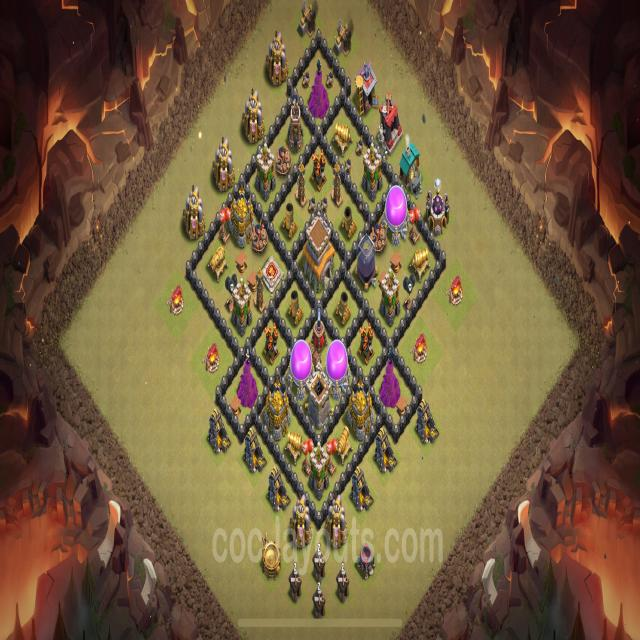air_defense: (357, 322, 377, 366), (310, 146, 328, 194), (260, 320, 280, 363)
air_sweeper: (312, 308, 326, 354)
archer_tower: (380, 270, 401, 329), (362, 143, 383, 201), (255, 142, 275, 196), (233, 280, 252, 334), (310, 441, 328, 498)
army_camp: (445, 272, 465, 310), (202, 338, 222, 375), (166, 282, 186, 318), (412, 329, 428, 368)
barracks: (352, 54, 379, 115)
builders_hut: (334, 563, 350, 605), (287, 566, 303, 606), (312, 587, 326, 620), (312, 548, 325, 580)
cannon: (208, 242, 229, 283), (333, 118, 353, 160), (284, 428, 304, 466), (411, 243, 428, 281), (335, 422, 351, 462)
clan_castle: (306, 362, 332, 428)
dark_barracks: (377, 90, 404, 152)
dark_elixir_drill: (332, 16, 352, 59), (296, 1, 316, 40)
dark_elixir_storage: (355, 233, 378, 292)
dark_spell_factory: (356, 541, 376, 580)
elixir_collector: (240, 87, 266, 152), (263, 30, 289, 90), (211, 138, 236, 196), (181, 186, 206, 244), (289, 494, 311, 550), (326, 494, 347, 552)
elixir_storage: (385, 183, 408, 245), (289, 339, 313, 398), (325, 338, 349, 397)
gold_mine: (373, 425, 398, 476), (415, 397, 440, 448), (265, 464, 290, 514), (349, 467, 374, 515), (242, 426, 266, 475), (207, 408, 231, 457)
gold_storage: (347, 379, 373, 438), (264, 380, 290, 438), (230, 188, 254, 248)
laboratory: (426, 180, 451, 237)
mortar: (285, 283, 304, 327), (332, 289, 353, 328), (280, 200, 298, 239), (340, 203, 358, 240)
spell_factory: (259, 532, 283, 583)
town_hall: (301, 218, 336, 295)
wizard_tower: (308, 60, 329, 118), (380, 356, 400, 409), (238, 355, 257, 405)
